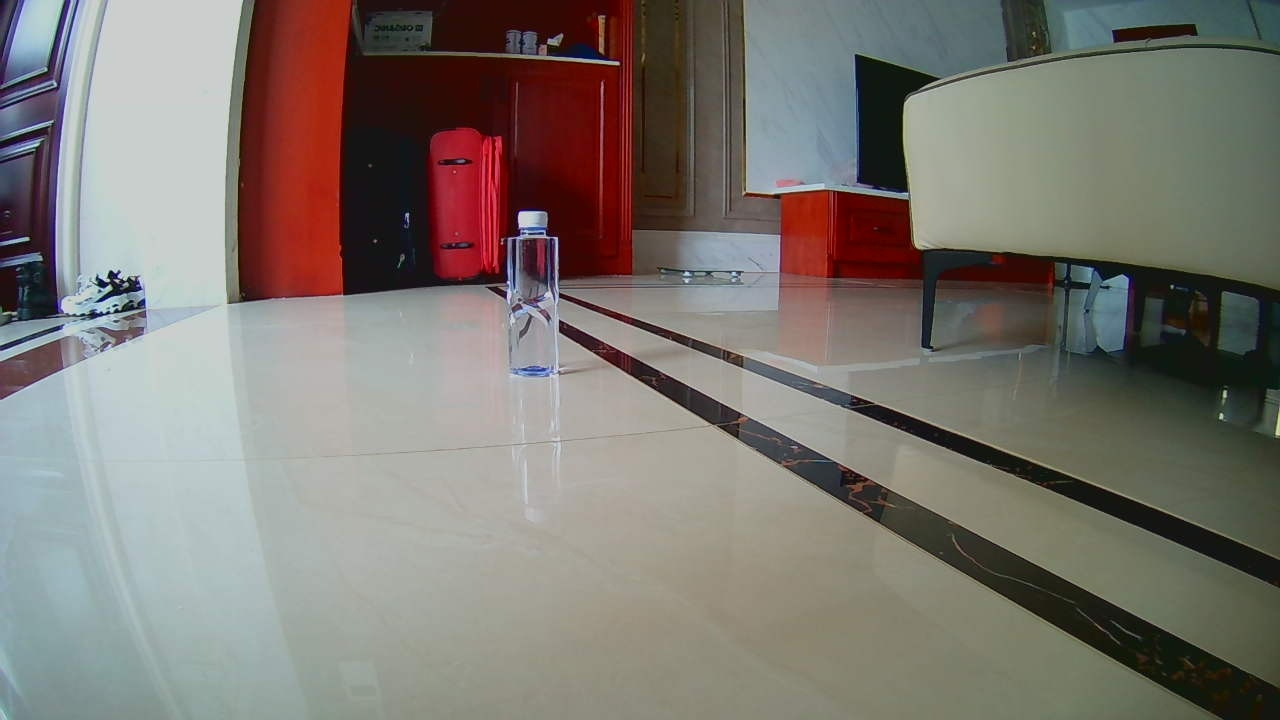water: (498, 207, 562, 381)
